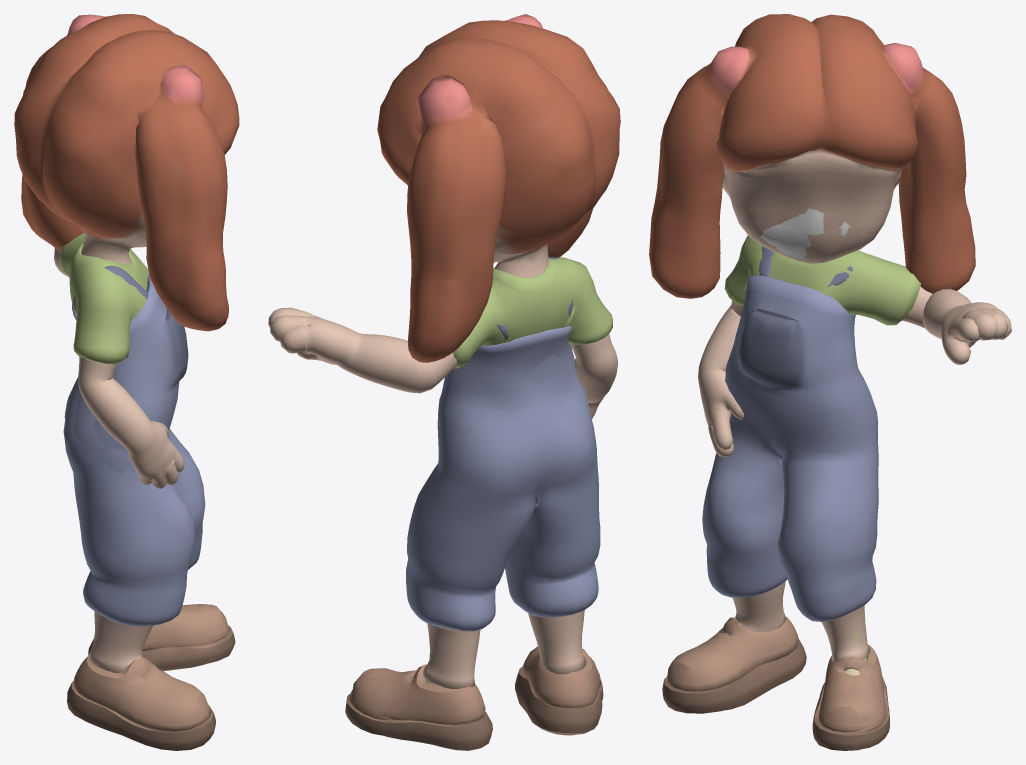
3 renders of one model, left to right at view 1: azimuth 30°, elevation 25°; view 2: azimuth 150°, elevation 25°; view 3: azimuth 270°, elevation 25°, orthographic. The views are drawn at different scales.
Parts seen in each view (by area): view 1: Arms.104; view 2: Arms.104; view 3: Arms.104.
Boxes of the visible parts, x1,y1,x2,y2 form: Arms.104: (14, 14, 239, 750); Arms.104: (268, 14, 620, 750); Arms.104: (649, 14, 1011, 750).
Bounding box in the file's own units: 57.53 × 163 × 78.84.
